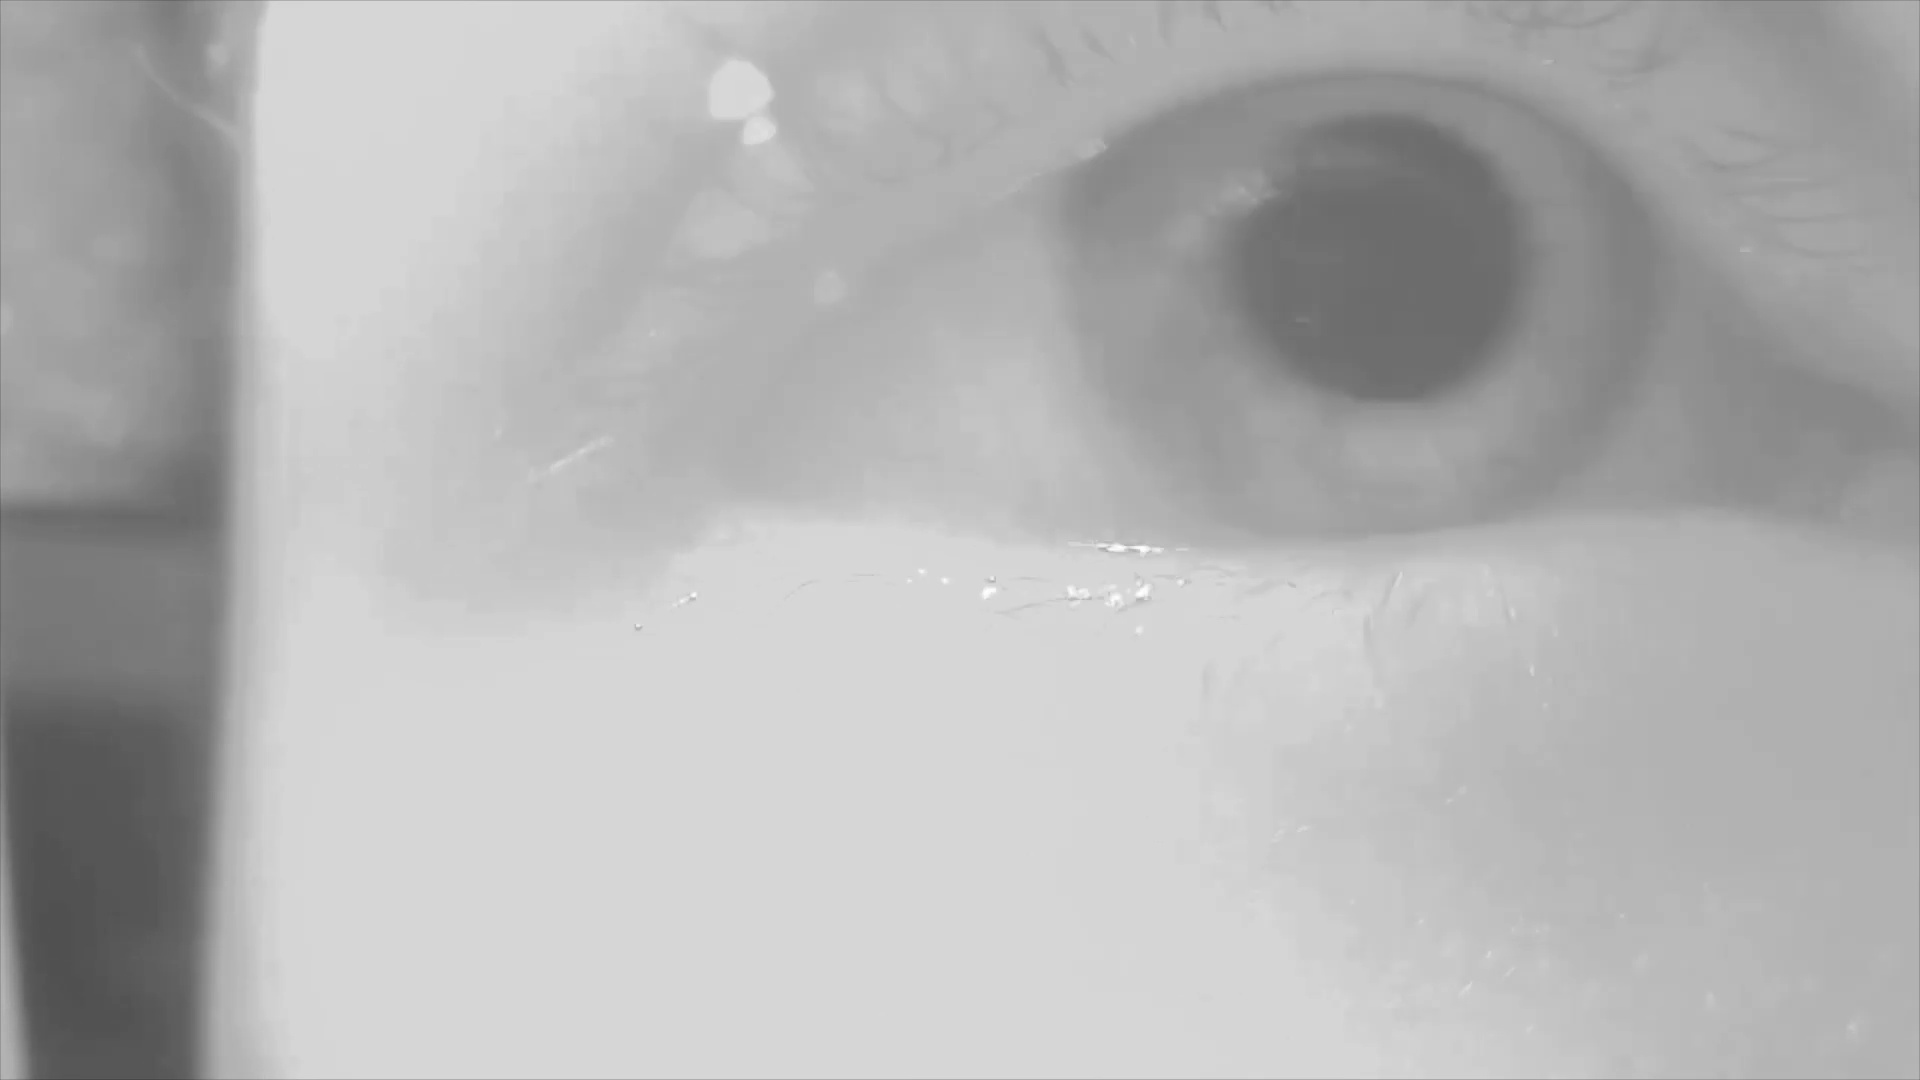pupil: (1240, 116, 1524, 400)
